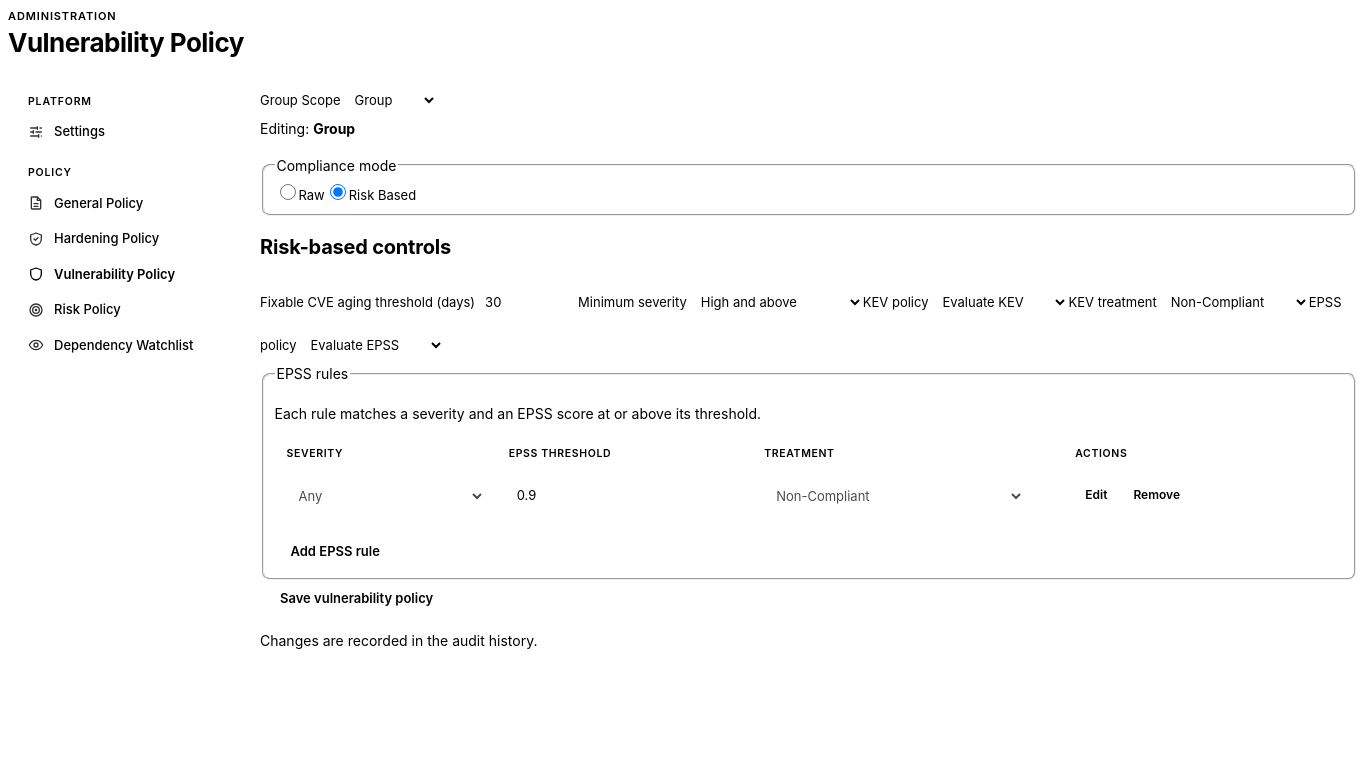
Test: keeps locked rule payloads, supports editable additions/removal and raw mode
The image size is (1366, 768).
Expected: the dropdown named "EPSS severity 1" is disabled, [286,481,485,511]
Click the button "Add EPSS rule".
click(335, 552)  # box [274,534,396,570]
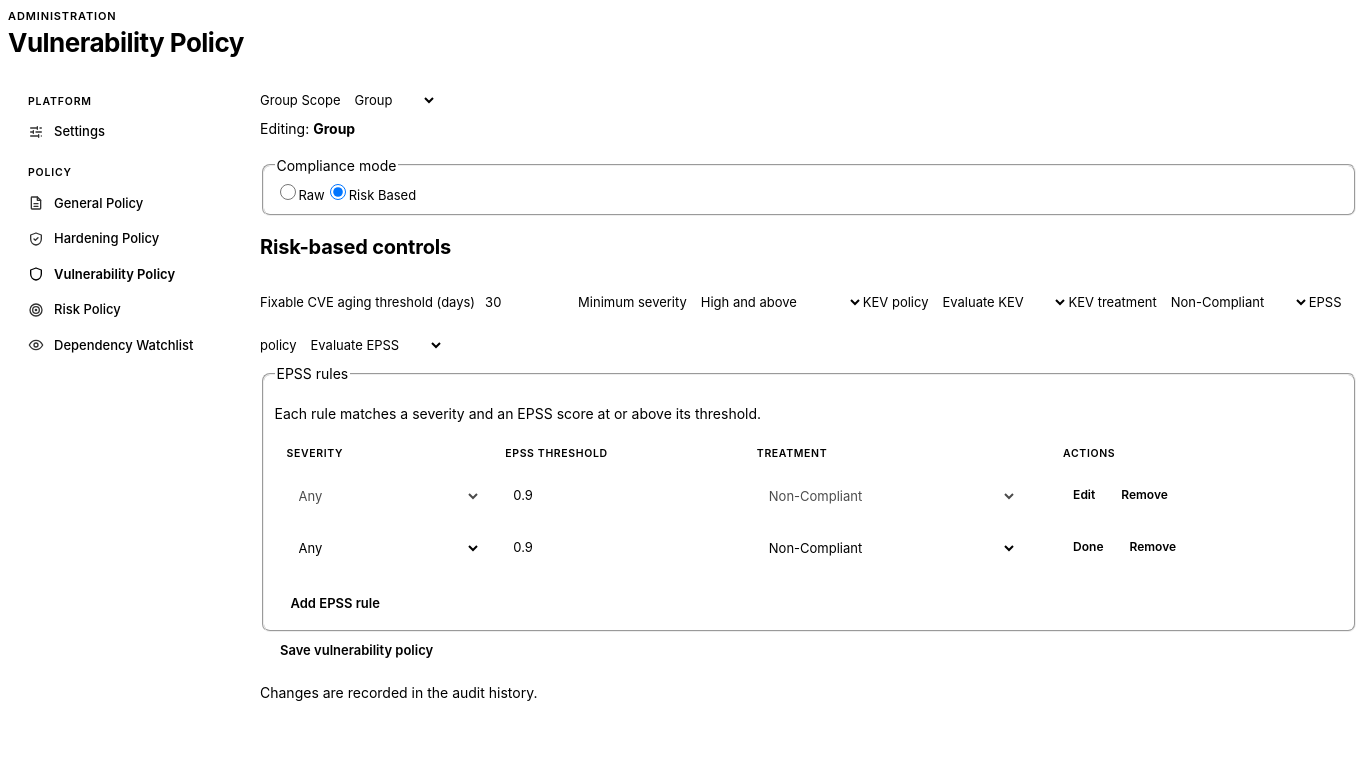
Replace the text in the number field named "EPSS threshold 2" with "0.5" at (627, 548), box [505,530,749,566]
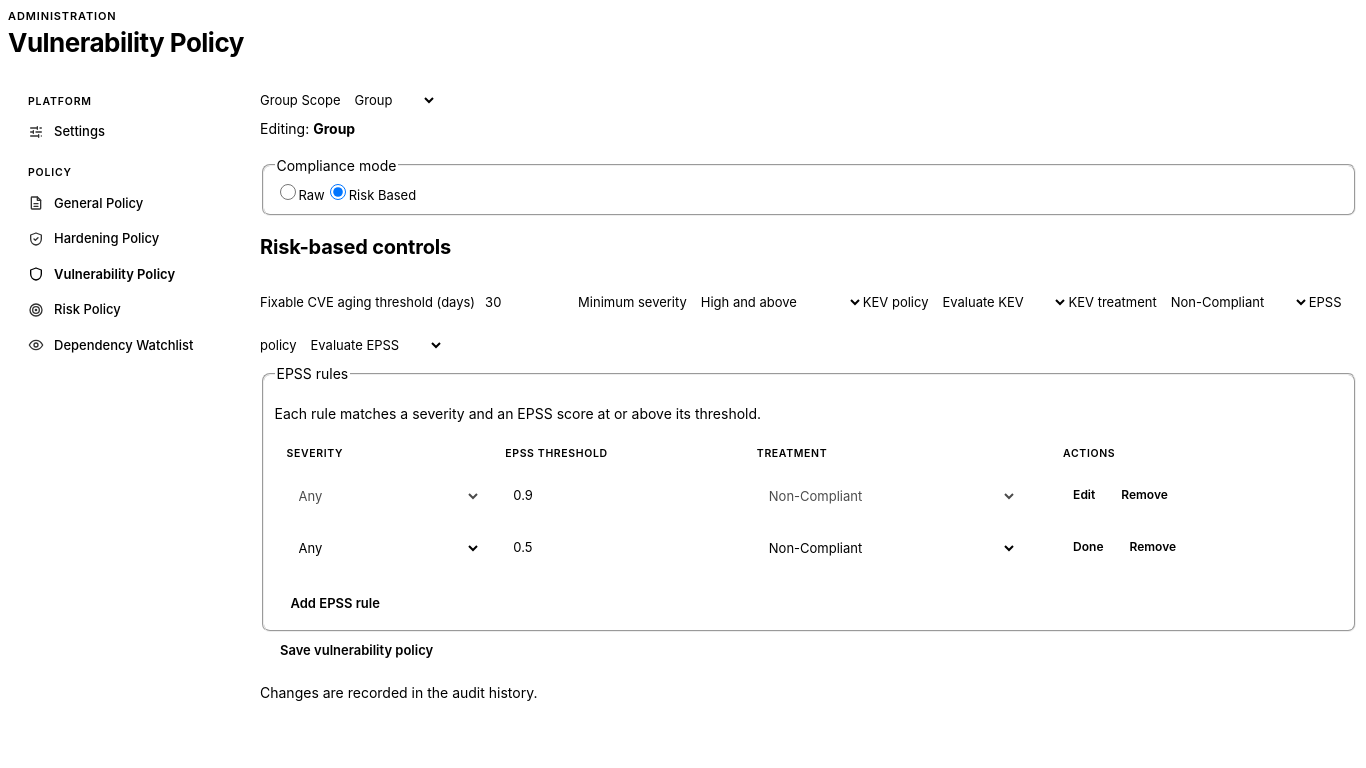
Click the button "Done".
click(1088, 548)  # box [1063,534,1114,562]
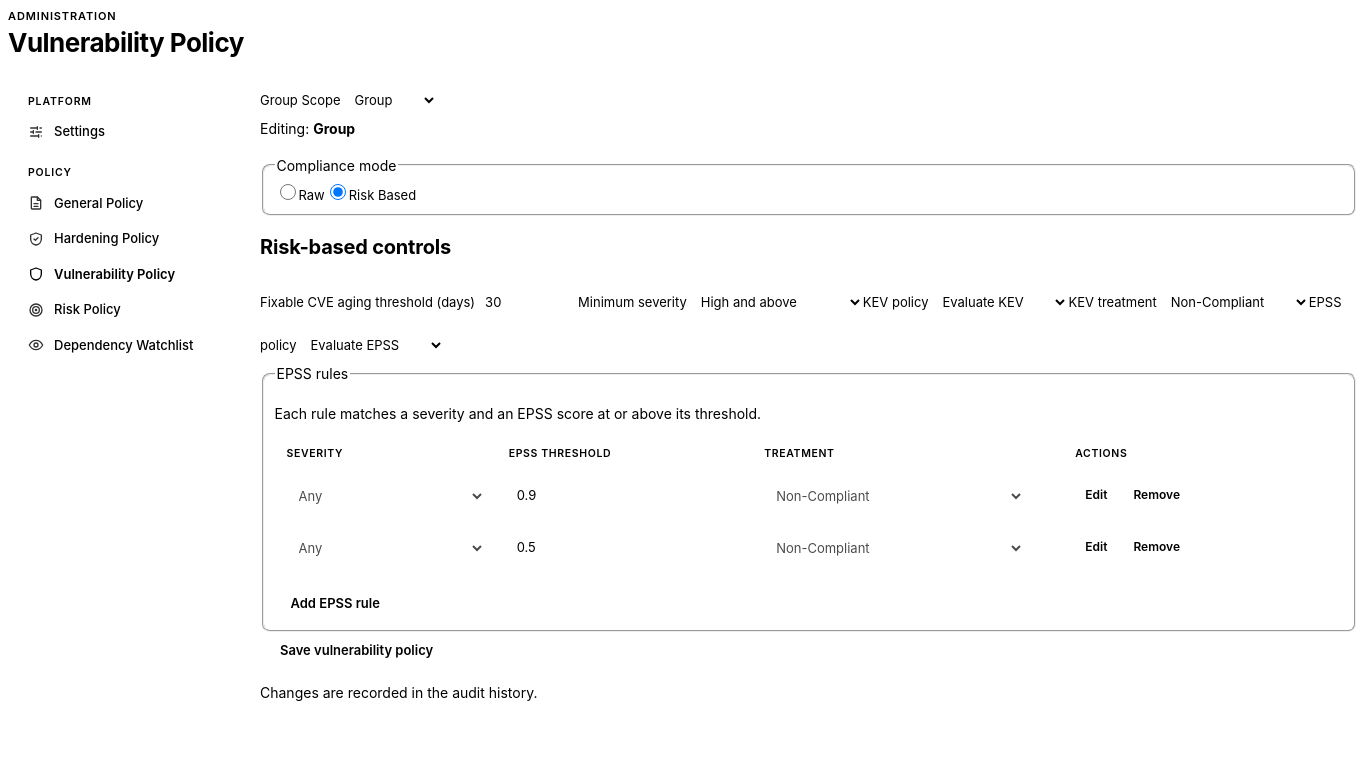
Now the number field named "EPSS threshold 2" is disabled, box [509,530,756,566]
Click the 2nd button "Remove".
click(1157, 548)  # box [1123,534,1190,562]
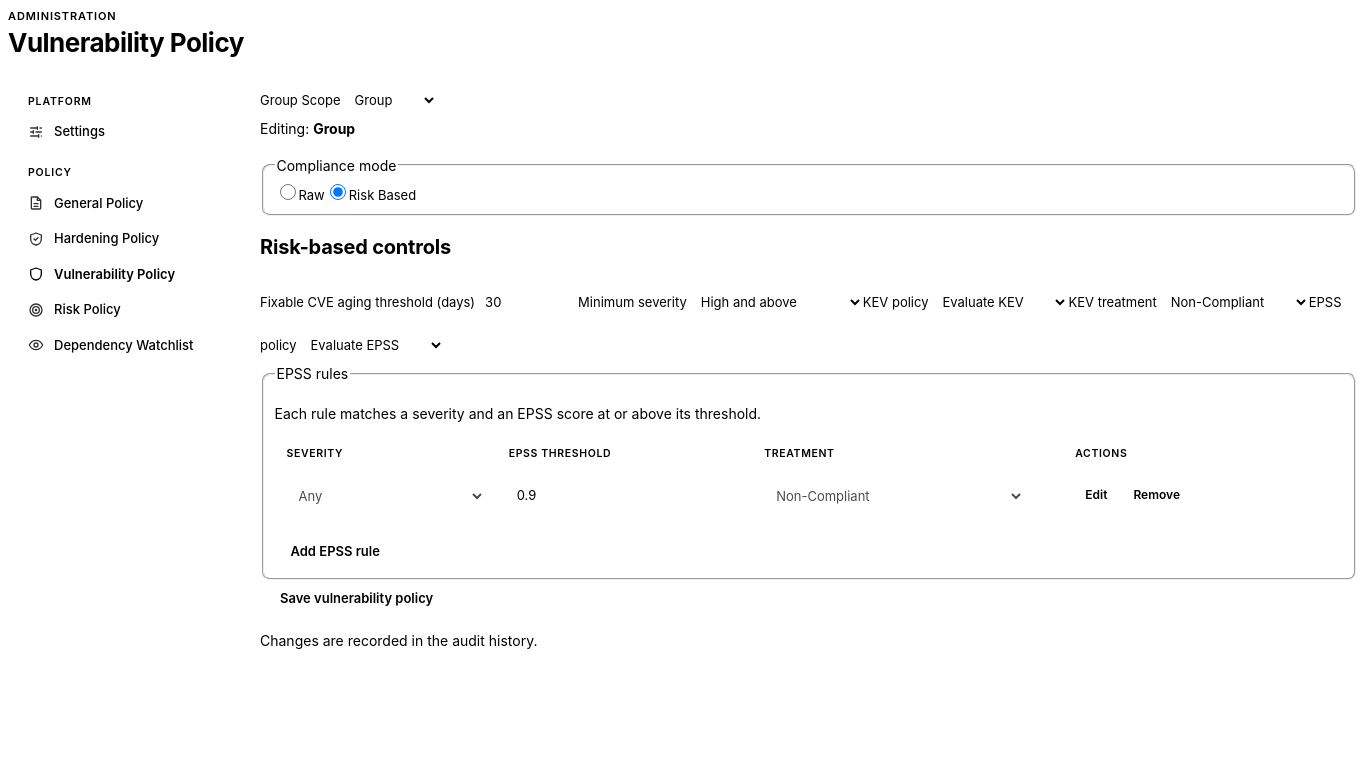
Click the radio button labelled "Raw".
click(288, 192)  # box [280,184,296,200]
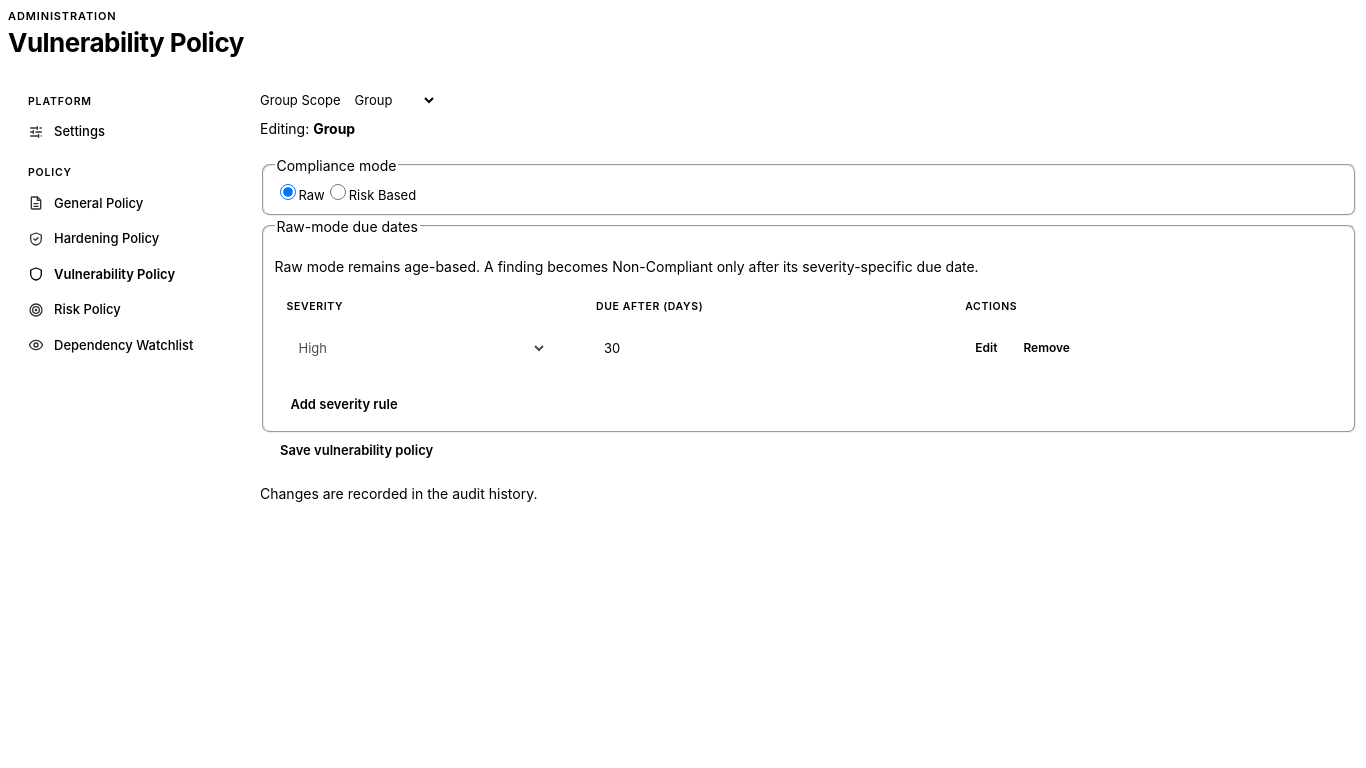
Now the button "Add severity rule" is shown, box [274,386,414,422]
Now the button "Add EPSS rule" is gone
